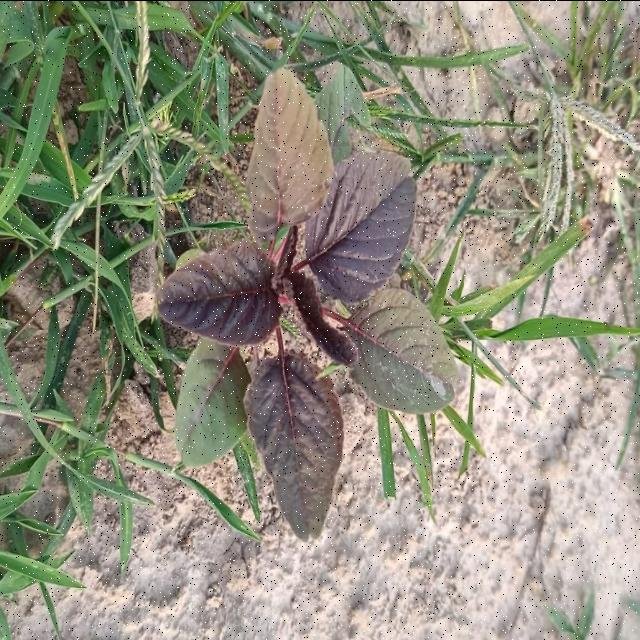plant: (157, 67, 457, 540)
